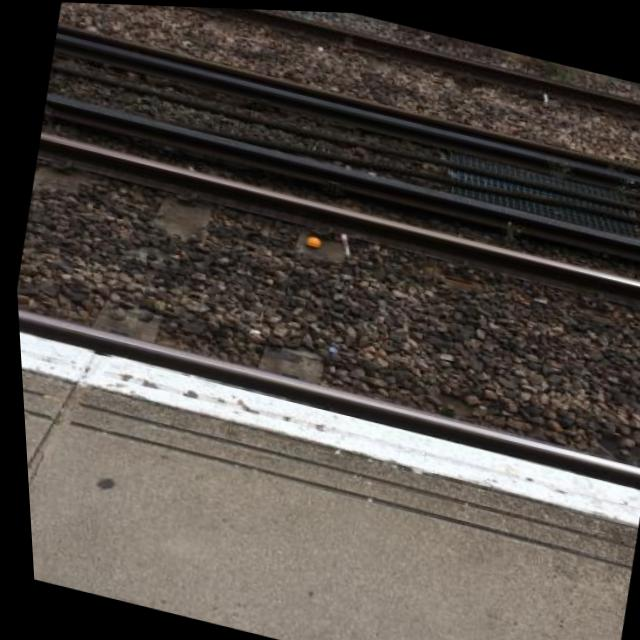plastic: (528, 93, 561, 110), (336, 233, 355, 258), (327, 345, 337, 354)
